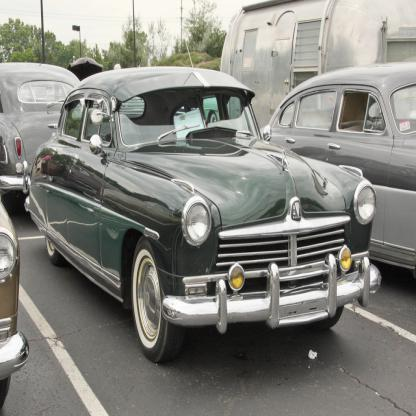Car: (0, 56, 416, 416)
